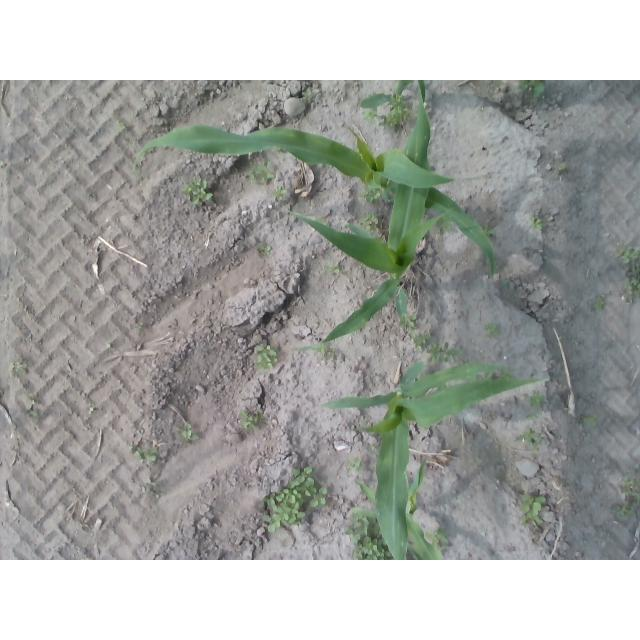Maize: (134, 123, 499, 281), (316, 357, 549, 560), (284, 80, 452, 353), (347, 457, 442, 560), (360, 80, 415, 108)
Weeds: (262, 466, 326, 532), (343, 513, 389, 560), (363, 94, 409, 129), (617, 244, 640, 305), (178, 175, 215, 204), (519, 491, 546, 529), (125, 438, 161, 462), (427, 341, 463, 363), (255, 343, 281, 373), (246, 160, 278, 184), (515, 426, 542, 454), (239, 408, 268, 433), (172, 421, 201, 443), (619, 475, 640, 504), (518, 81, 546, 100), (312, 343, 337, 364), (409, 330, 431, 352), (6, 357, 28, 379), (425, 526, 447, 548), (360, 210, 383, 230), (345, 457, 366, 476), (255, 240, 274, 261), (145, 476, 164, 497), (362, 186, 383, 204), (324, 261, 342, 280), (25, 395, 39, 419), (610, 505, 635, 518), (527, 212, 545, 230), (529, 389, 547, 407), (399, 312, 418, 328), (484, 322, 500, 339), (272, 186, 287, 203), (581, 413, 598, 427), (438, 218, 451, 235), (114, 114, 127, 131), (595, 295, 606, 311), (553, 160, 567, 172), (483, 223, 495, 236), (498, 372, 515, 381), (302, 90, 313, 102), (501, 278, 509, 291), (133, 323, 145, 330), (88, 407, 98, 415), (527, 413, 537, 420), (368, 442, 375, 451), (107, 340, 113, 348), (521, 393, 527, 400)
